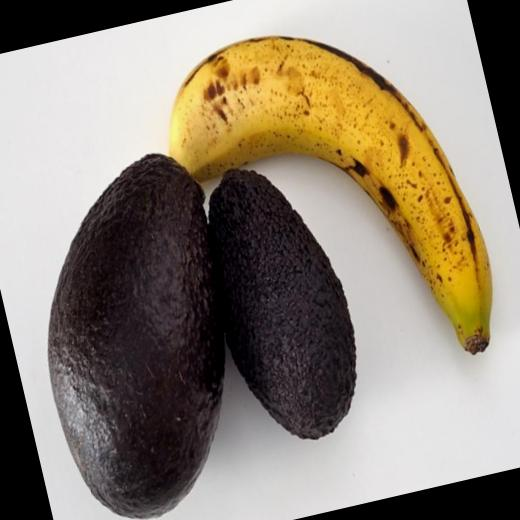Banana: (135, 0, 502, 420)
